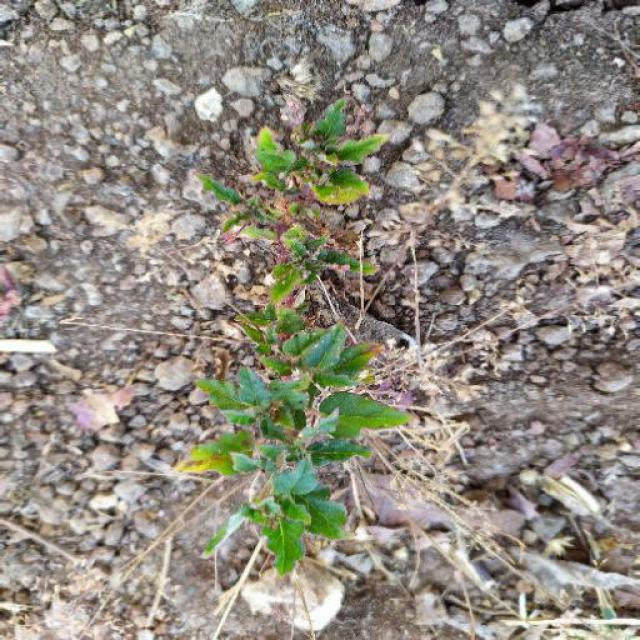weed: (105, 79, 597, 571)
